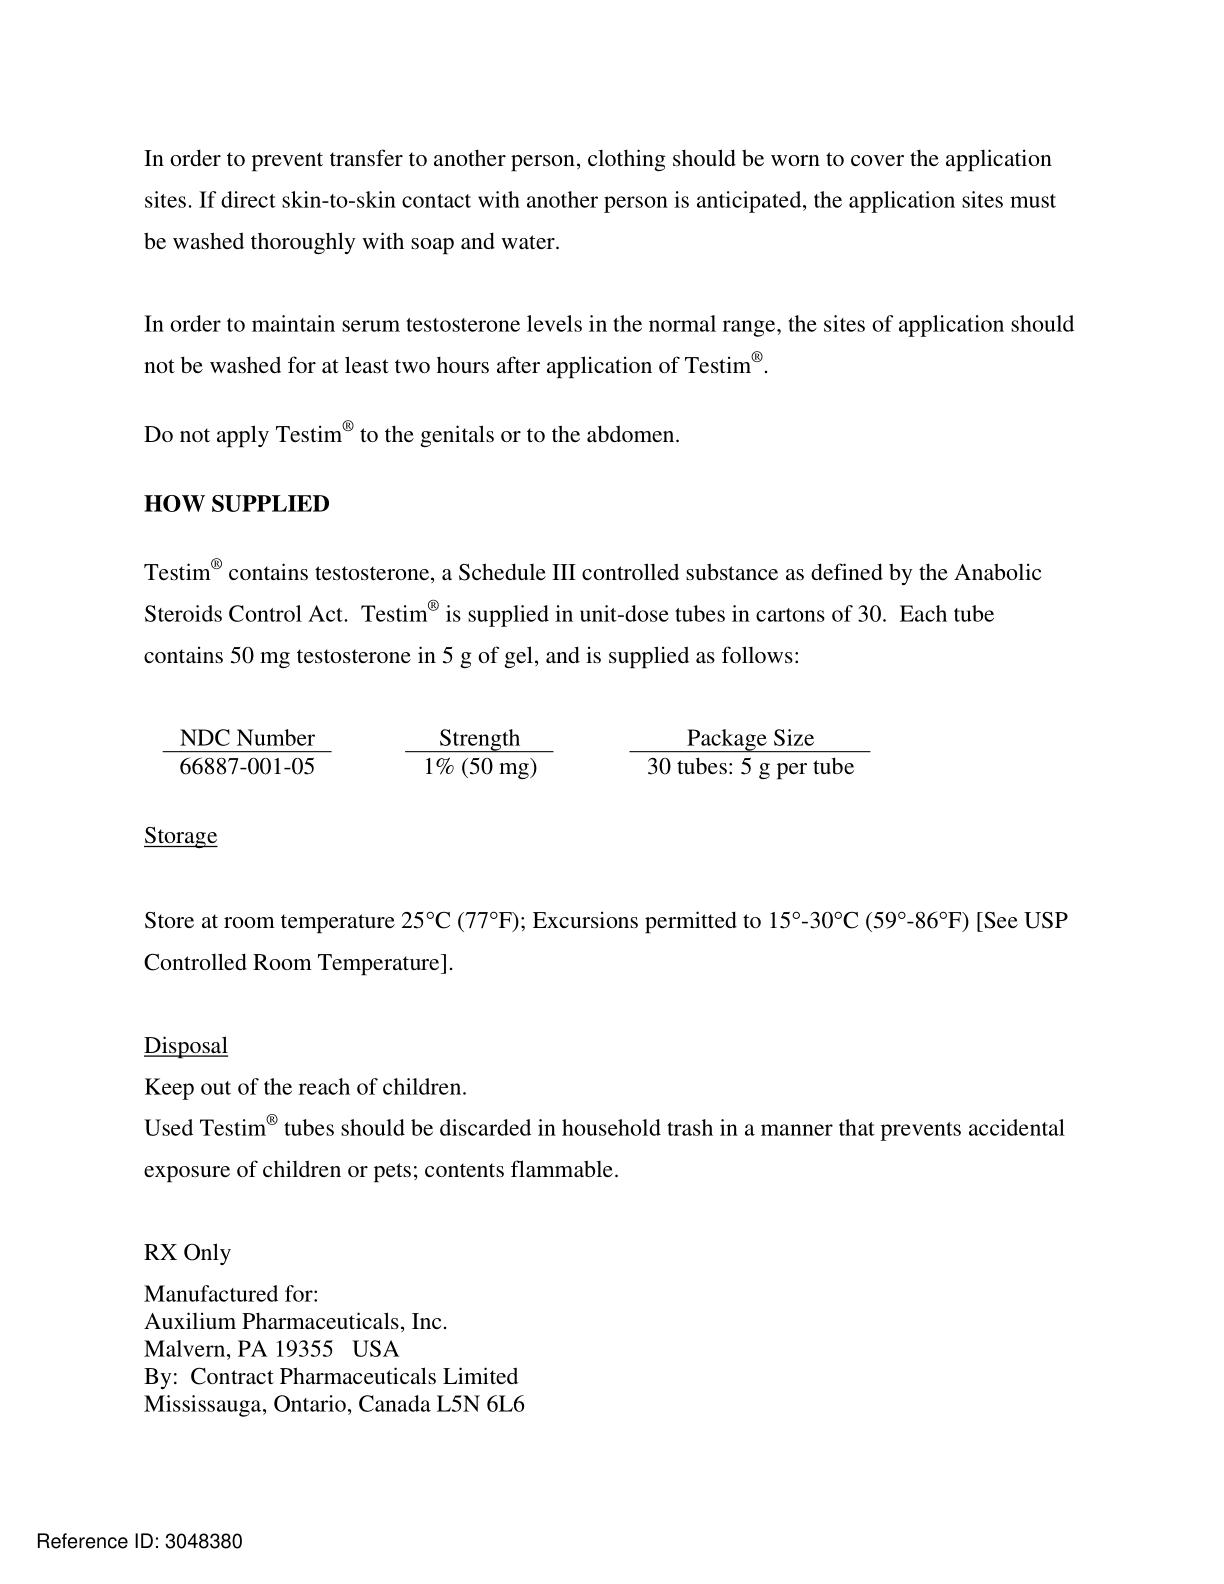nolines: (162, 726, 874, 778)
